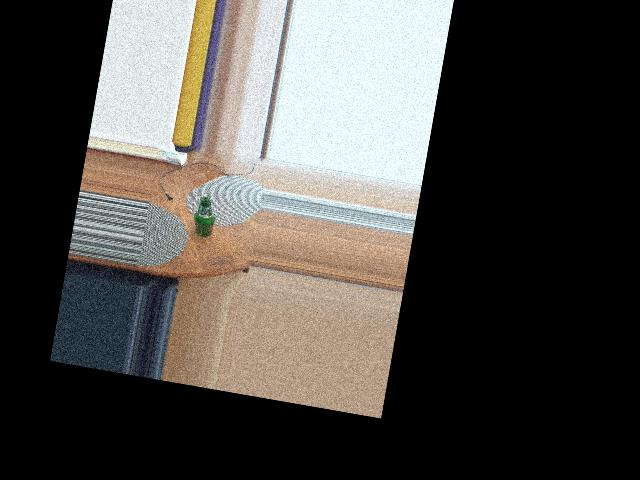beer: (191, 195, 219, 238)
